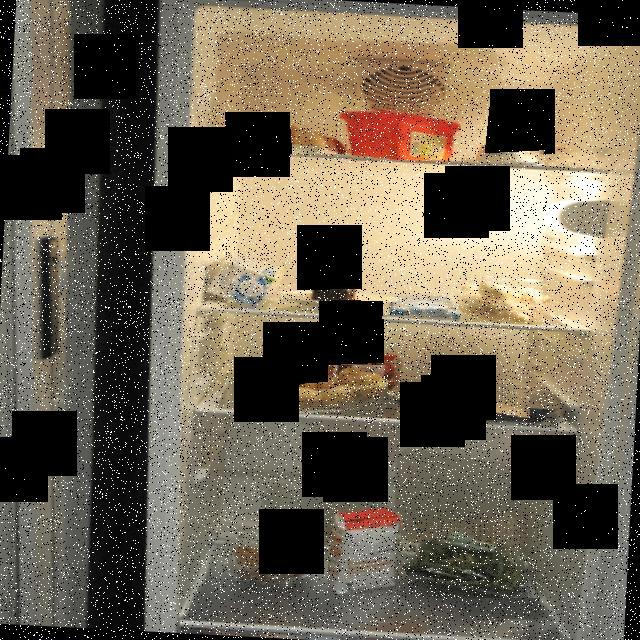butter: (338, 104, 462, 161)
cheese: (308, 272, 362, 306)
chicken_breast: (388, 382, 530, 420)
chocolate: (380, 293, 454, 319)
eggs: (268, 120, 345, 154)
flour: (476, 102, 550, 168)
green_beans: (401, 522, 545, 598)
milk: (200, 252, 282, 304)
mushrooms: (446, 272, 550, 322)
potato: (258, 365, 394, 417)
shrimp: (226, 539, 312, 587)
strawberries: (300, 350, 397, 395)
sugar: (328, 508, 410, 600)
